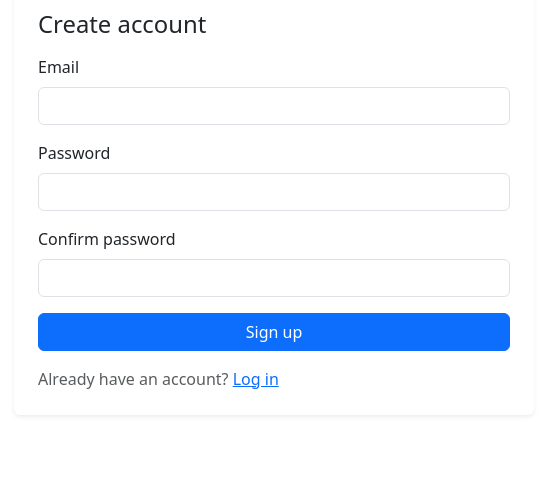
SignupPage › shows validation error when password is less than 8 characters
This screenshot has width=549, height=484.
Type "test@example.com" into the field labelled "Email" at coordinates (274, 106), box [38,87,510,125]
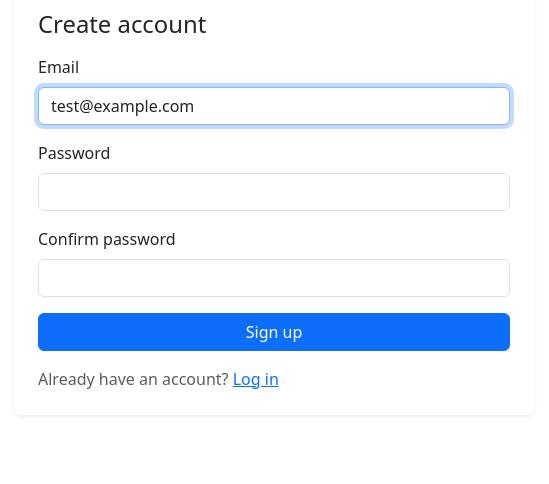
Type "short" into the password field labelled "Password" at coordinates (274, 192), box [38,173,510,211]
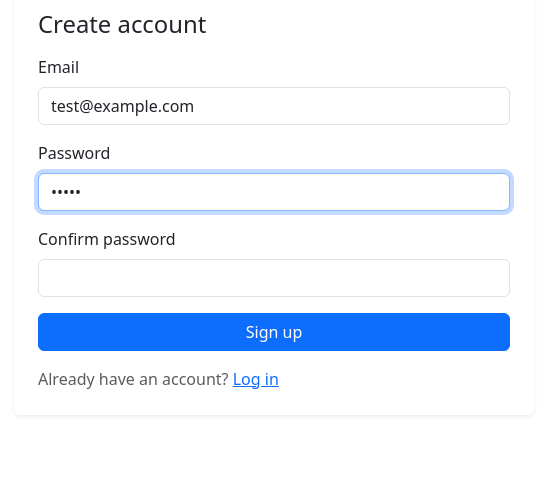
Click the button "Sign up" at coordinates (274, 332), box [38,313,510,351]
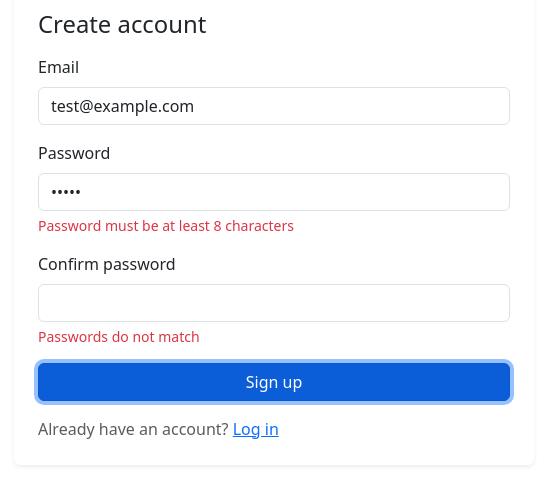
Expected: the text "Password must be at least 8 characters" is shown, [38,216,294,235]
